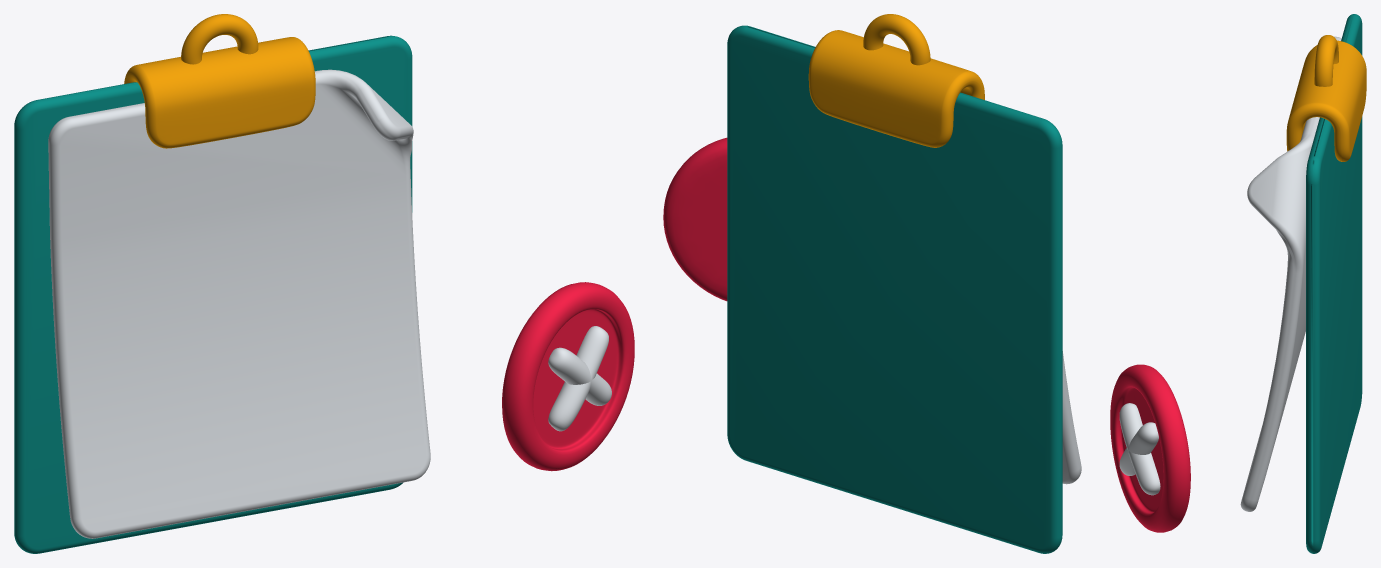
The model's file is empty-clipboard-3d-animated-icon-866366864970.glb.
The picture shows the model from 3 angles, left to right: view 1: azimuth 30°, elevation 25°; view 2: azimuth 150°, elevation 25°; view 3: azimuth 270°, elevation 25°; orthographic projection. The views are drawn at different scales.
Visible parts, largest first — view 1: PAPER, Clipboard, Board, X SIGN, X.001; view 2: Clipboard, Board, X SIGN, PAPER; view 3: Clipboard, PAPER, X SIGN, Board, X.001.
Boxes of the visible parts, <box> form: PAPER: <box>48,69,430,538</box>; Clipboard: <box>14,35,412,553</box>; Board: <box>124,14,315,148</box>; X SIGN: <box>502,282,634,471</box>; X.001: <box>548,326,611,431</box>; Clipboard: <box>727,25,1062,553</box>; Board: <box>808,14,984,147</box>; X SIGN: <box>663,137,727,301</box>; PAPER: <box>1062,351,1081,484</box>; Clipboard: <box>1306,14,1362,553</box>; PAPER: <box>1240,36,1341,511</box>; X SIGN: <box>1110,364,1190,532</box>; Board: <box>1286,35,1366,161</box>; X.001: <box>1119,403,1160,495</box>.
Bounding box in the file's own units: 1.33 × 1.25 × 0.6537.
